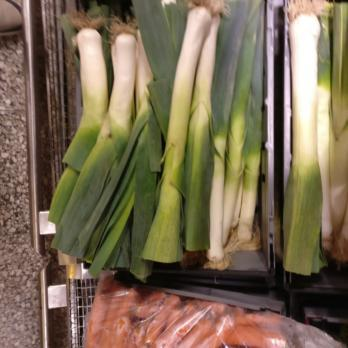Leek Leaves: (62, 0, 348, 273)
